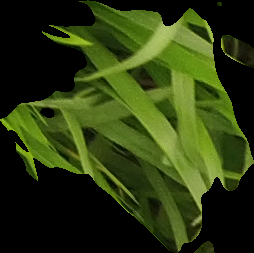grass: (1, 1, 253, 252)
